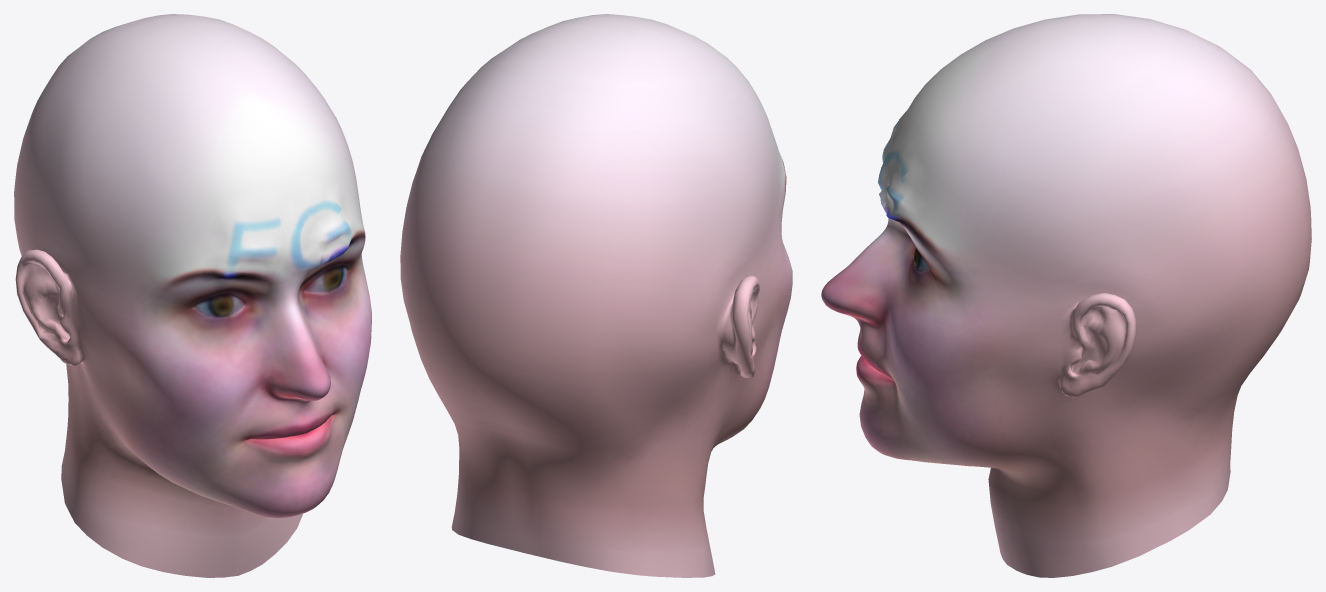
The model's file is avg_anyrace_female_18.obj.
3 views of the same model, side by side, from view 1: azimuth 30°, elevation 25°; view 2: azimuth 150°, elevation 25°; view 3: azimuth 270°, elevation 25° (orthographic). The views are drawn at different scales.
Parts seen in each view (by area): view 1: HeadHires; view 2: HeadHires; view 3: HeadHires.
Boxes of the visible parts, x1=… form: HeadHires: x1=14, y1=14, x2=371, y2=577; HeadHires: x1=400, y1=14, x2=792, y2=577; HeadHires: x1=821, y1=14, x2=1311, y2=577.
Size of the model in its own units: 186 by 283 by 240.
Materials: 3 (3 with a texture image).
